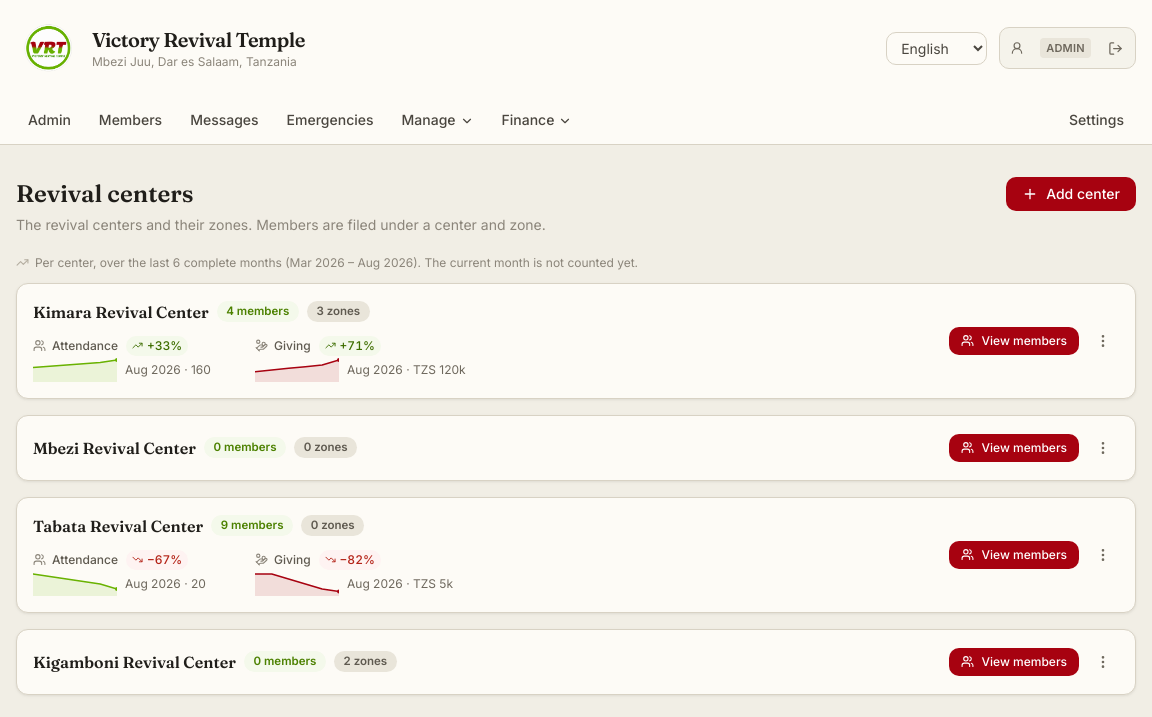
Scenario: Revival Centers › opens a read-only roster of the members filed at a center
The image size is (1152, 717).
Expected: the button "Kimara Revival Center" is shown, [33, 300, 209, 324]
Step 1. Click the button "View members" in the row of "+71%" → (1014, 340), box [948, 326, 1079, 354]
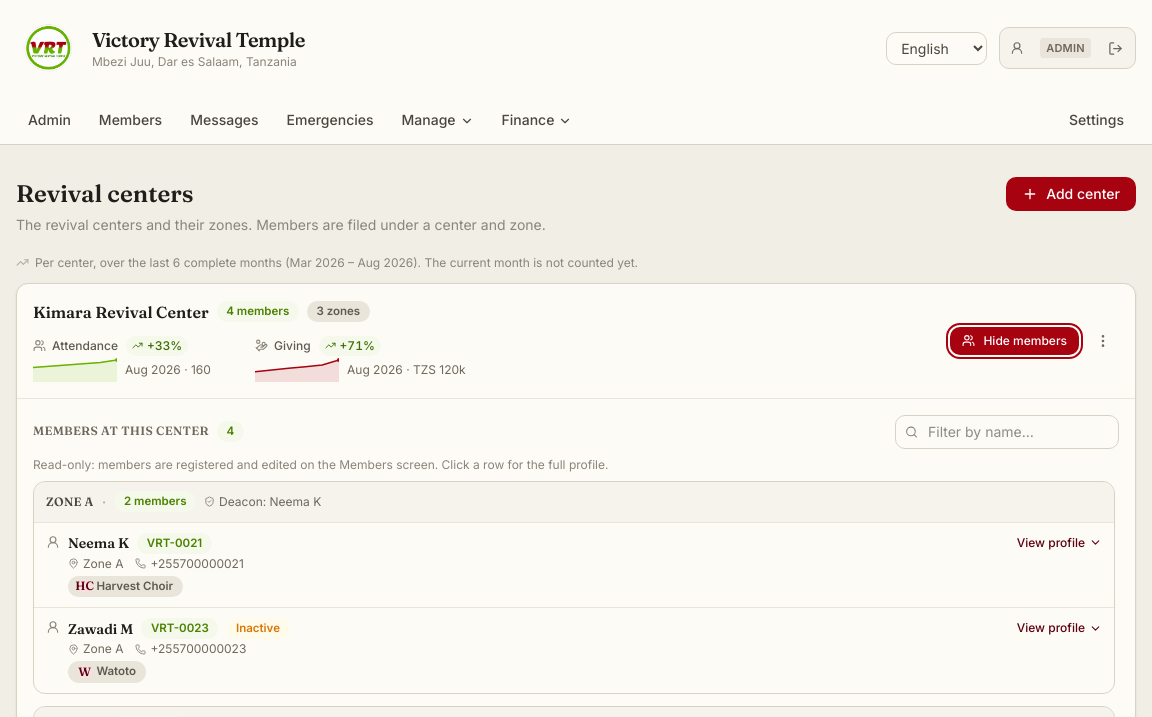
Result: the link "Neema K" is shown at [68, 533, 129, 553]
Result: the link "Zawadi M" is shown at [68, 619, 133, 639]
Result: the text "VRT-0023" is shown at [141, 618, 218, 639]
